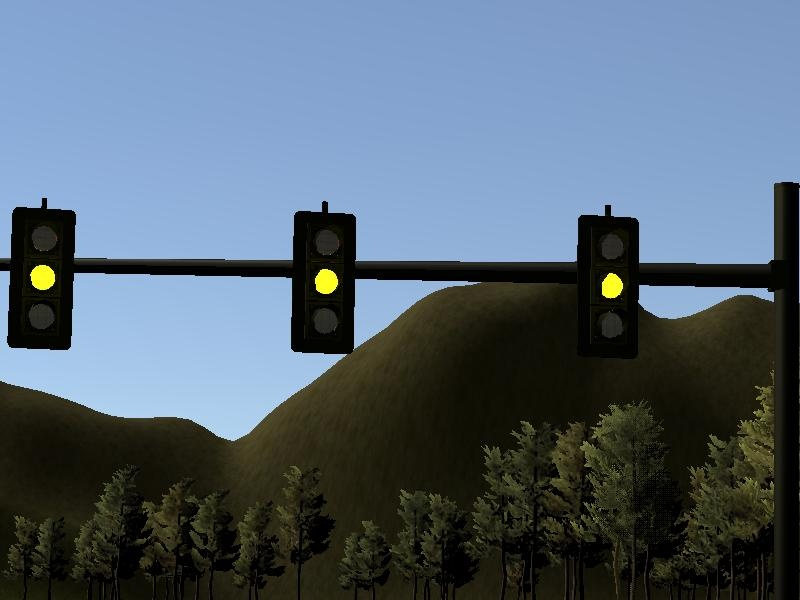yellow: (571, 195, 649, 364), (4, 188, 81, 355), (286, 197, 363, 361)
